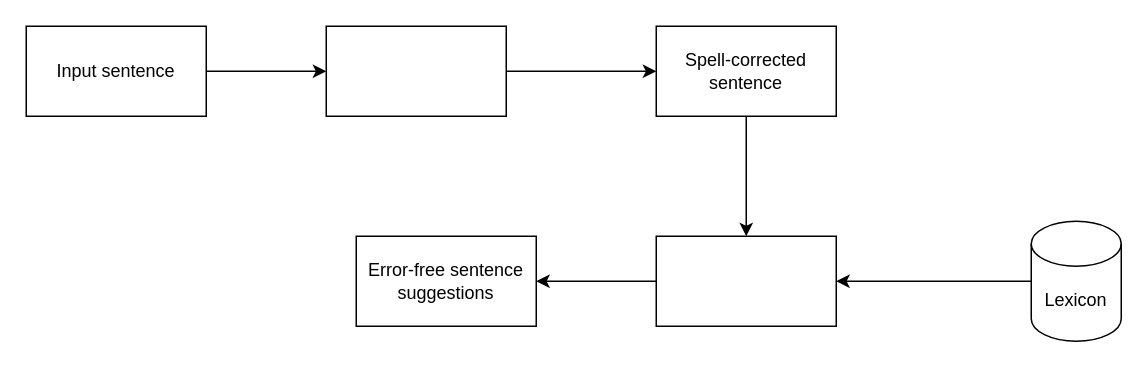
The diagram is 1148 pixels wide and 368 high, and some of its shapes have lost their labels. The centre of each missing label's shape, as x and y in pixels:
"Rule-based error correction" goes at pixel 745 280.
"Spell-checker" goes at pixel 415 70.
